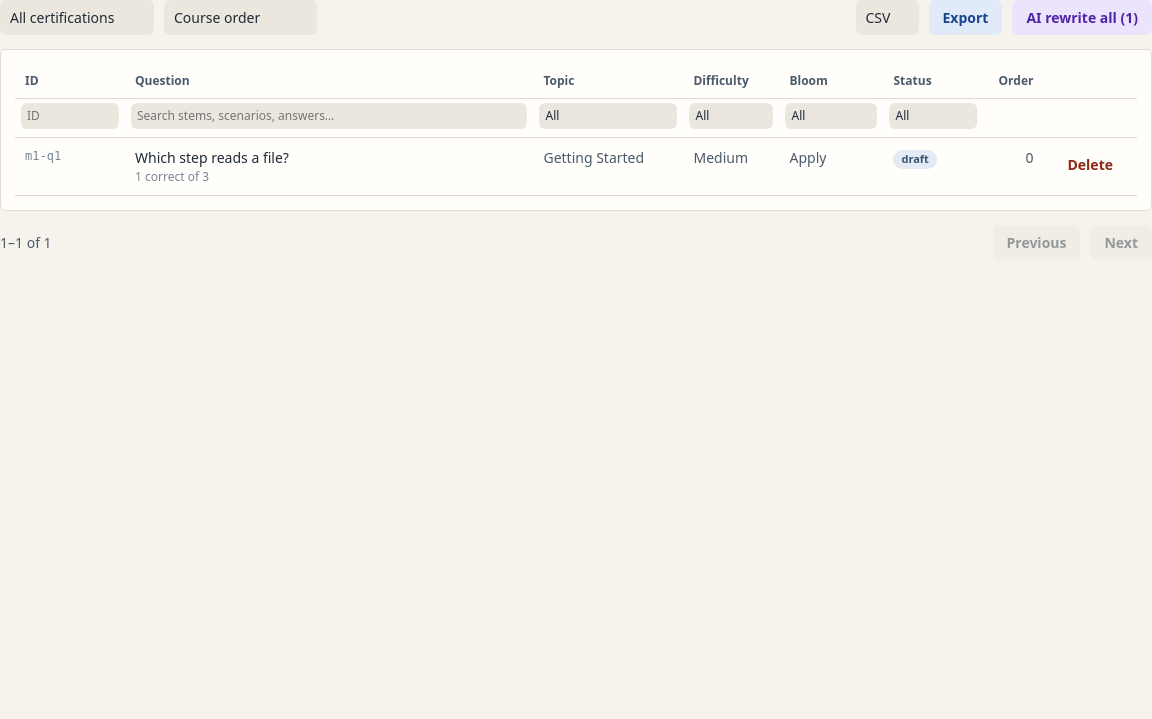
Test: how the answers look › draws the correct answer green and each distractor rose, without changing their labels
Click the text "Which step reads a file?".
click(329, 166)  # box left=125, top=138, right=534, bottom=196
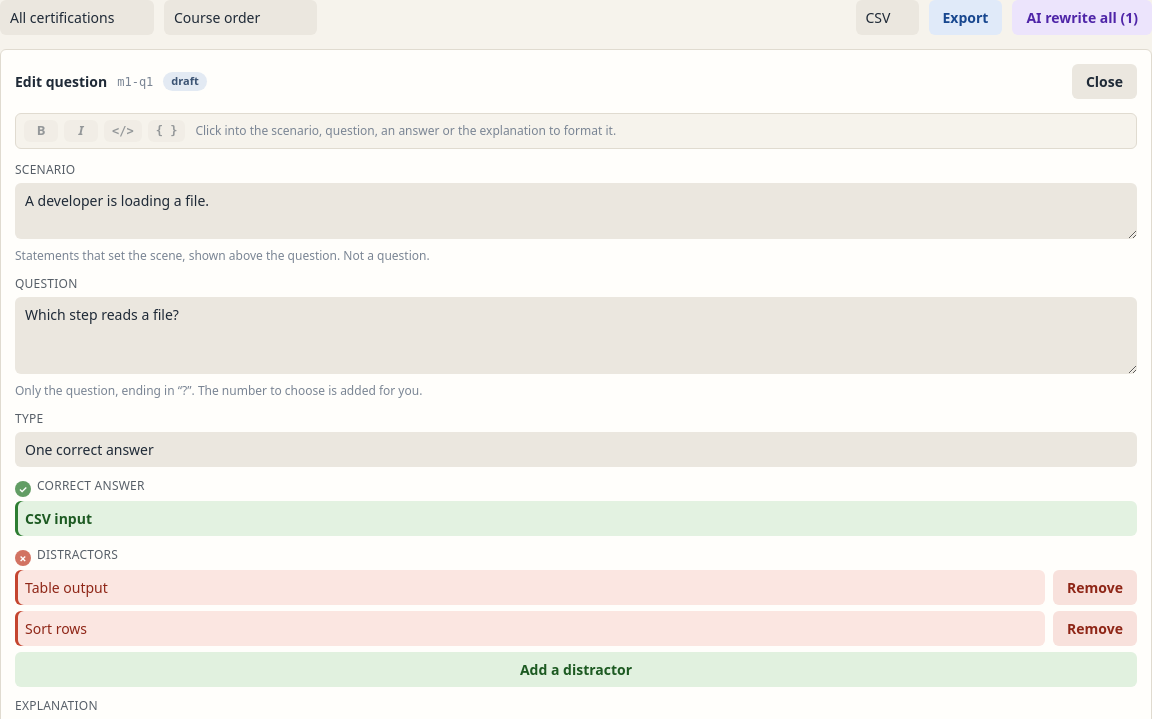
Check: the field labelled "Correct answer" holds "CSV input", box left=15, top=501, right=1137, bottom=536
